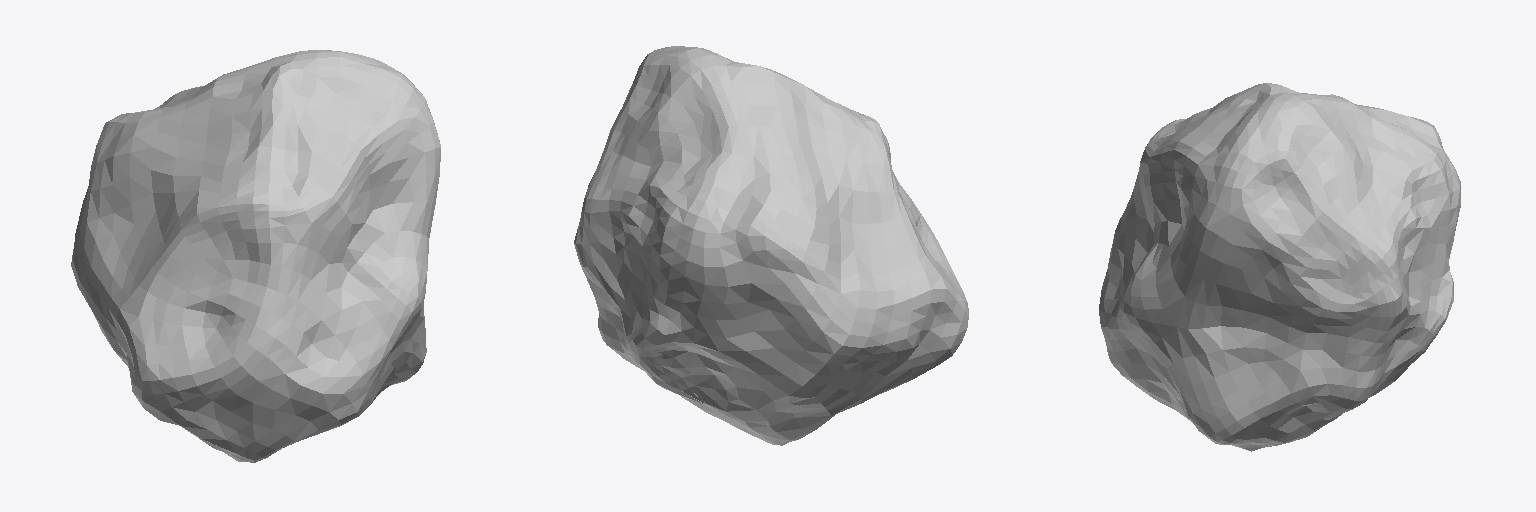
The model's file is asteroide8.obj.
The picture shows the model from 3 angles: view 1: azimuth 30°, elevation 25°; view 2: azimuth 150°, elevation 25°; view 3: azimuth 270°, elevation 25°; orthographic projection.
Visible parts, largest first — view 1: Asteroid_no_8; view 2: Asteroid_no_8; view 3: Asteroid_no_8.
Boxes of the visible parts, <box> form: Asteroid_no_8: <box>71,50,440,462</box>; Asteroid_no_8: <box>574,46,968,445</box>; Asteroid_no_8: <box>1099,83,1460,451</box>.
Size of the model in its own units: 7.91 by 8.91 by 7.89.